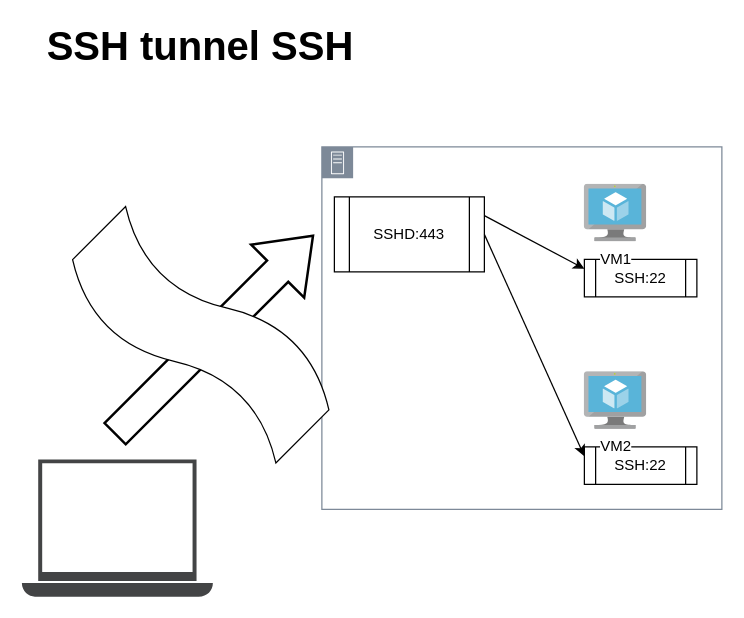
This 744x618 diagram has some shape labels left out. The shapes that lost their labels are listed below. From the top down, each one's box as (x1, y1, x2, y2) in pixels, then its label:
(53, 187, 347, 481): ProxyCommand ssh pmhost:443 nc %h %p
(321, 146, 722, 509): Proxmox
(21, 459, 212, 596): SSH
